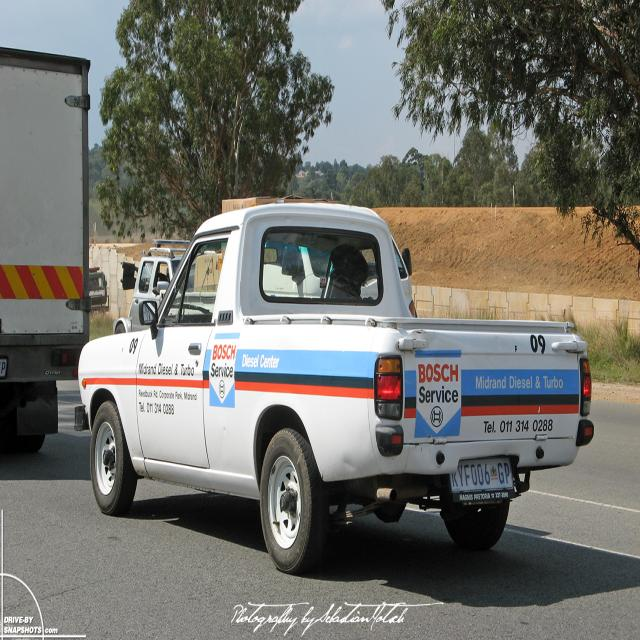Pickup Trucks: (77, 202, 593, 576)
